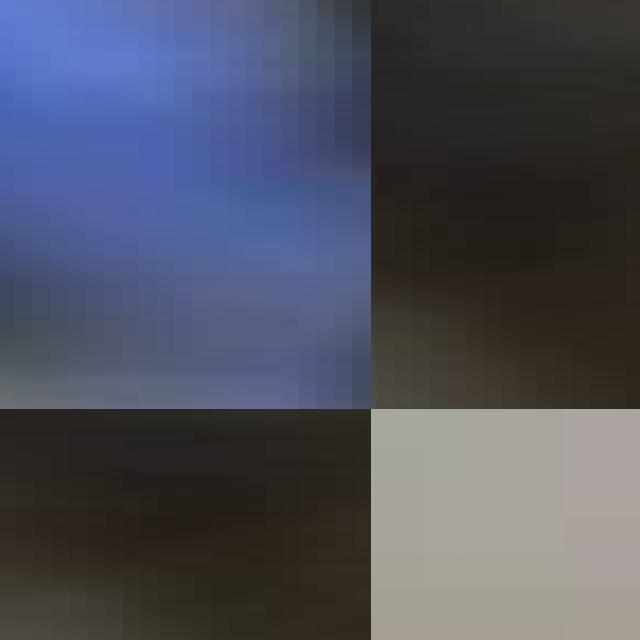fish: (0, 0, 371, 409)
